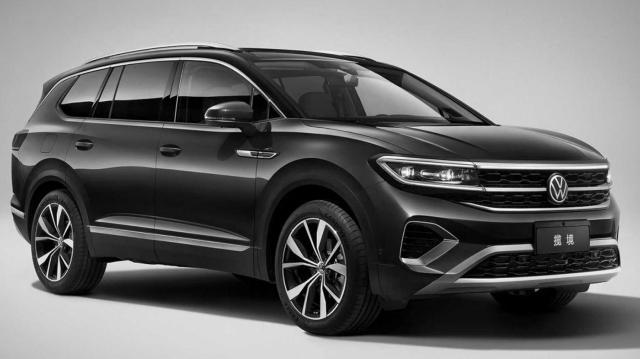suv: (10, 26, 632, 344)
